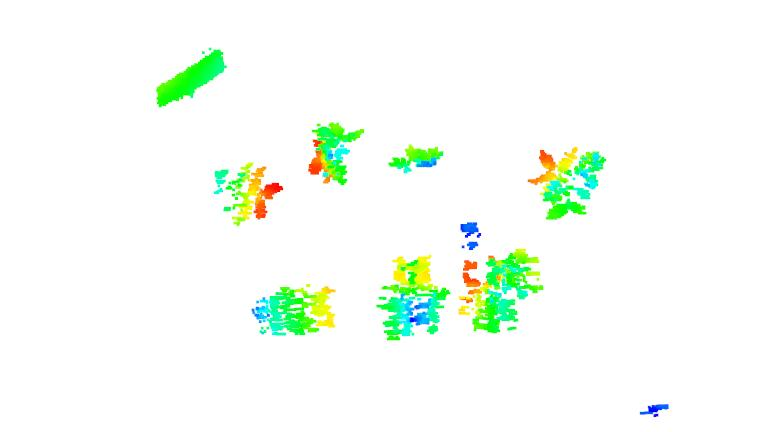chickpea: (457, 250, 549, 336), (375, 255, 454, 343), (528, 144, 608, 224), (209, 160, 290, 228), (251, 281, 339, 336), (304, 120, 365, 188), (384, 141, 447, 176)
